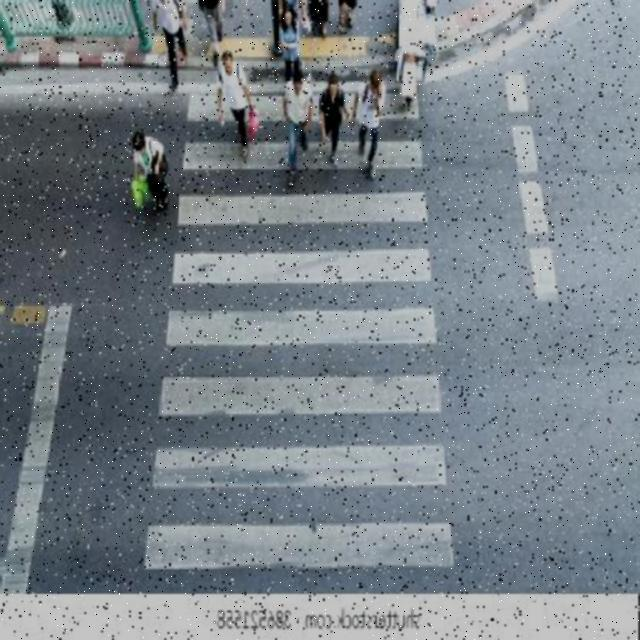Pedestrian crosswalk: (126, 72, 482, 588)
